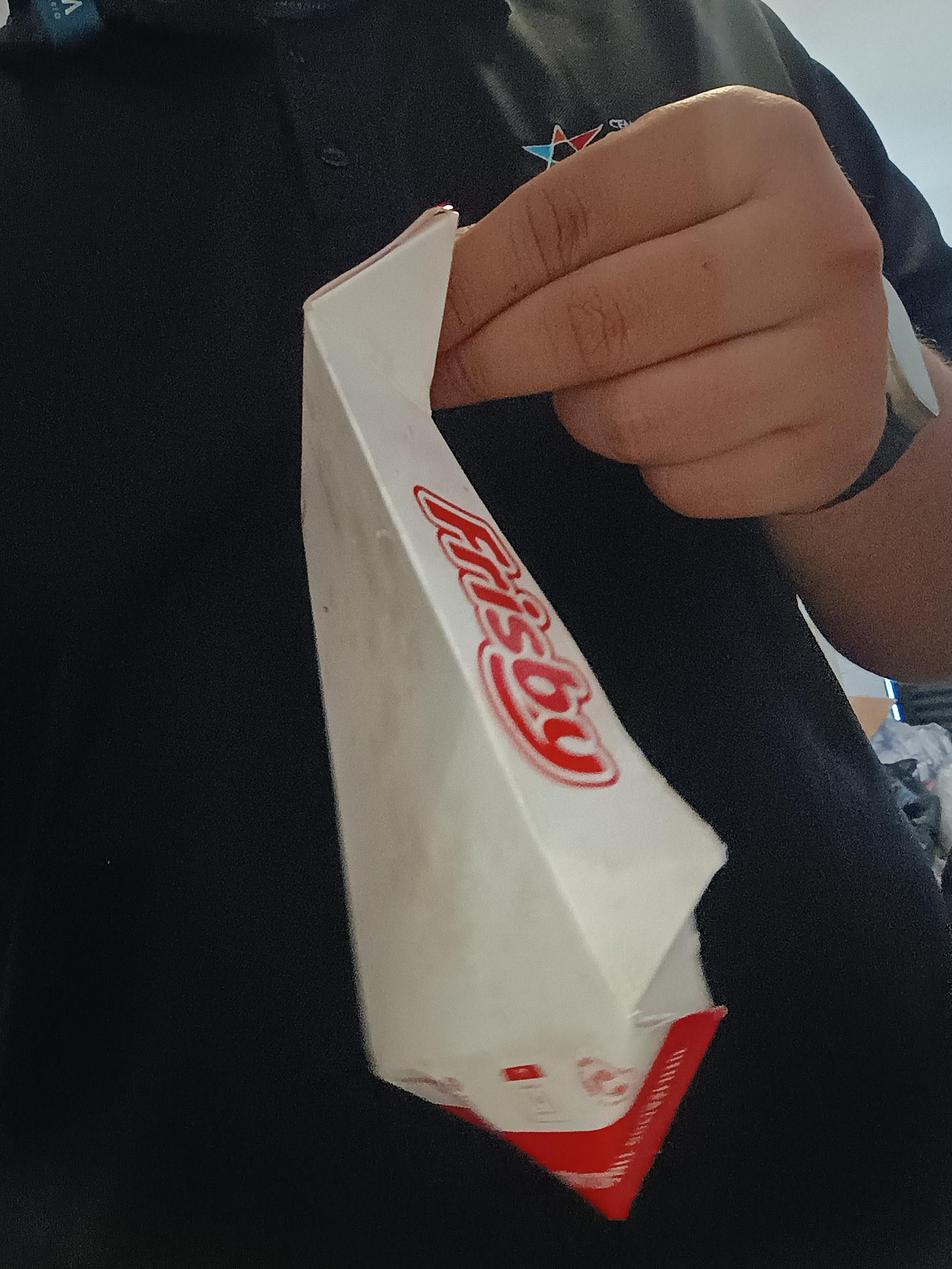Carton: (299, 204, 733, 1221)
